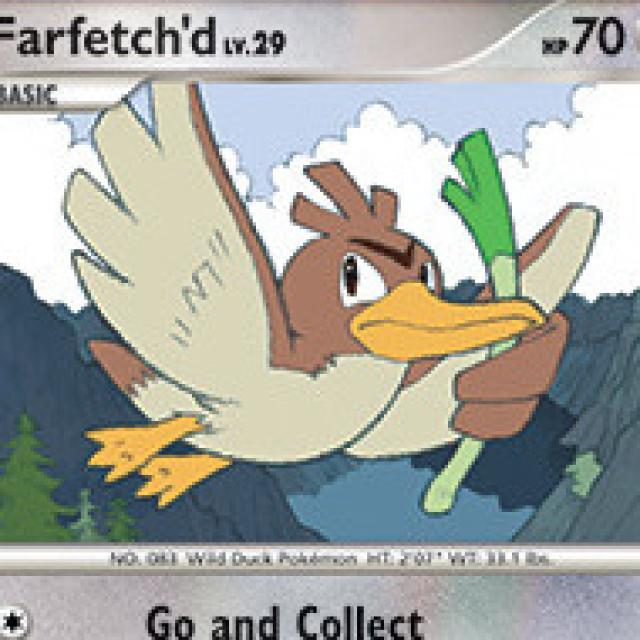Farfetchd: (47, 79, 604, 532)
